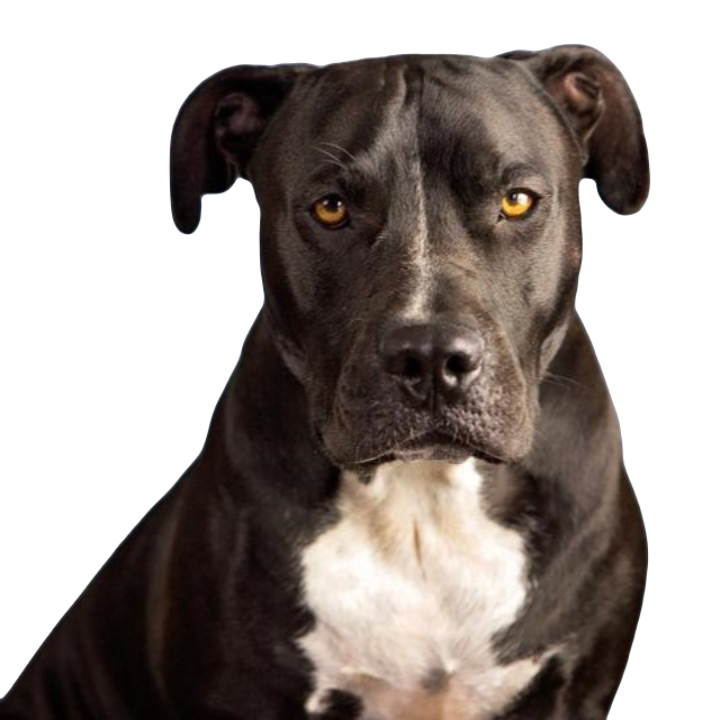Dog: (0, 44, 654, 719)
